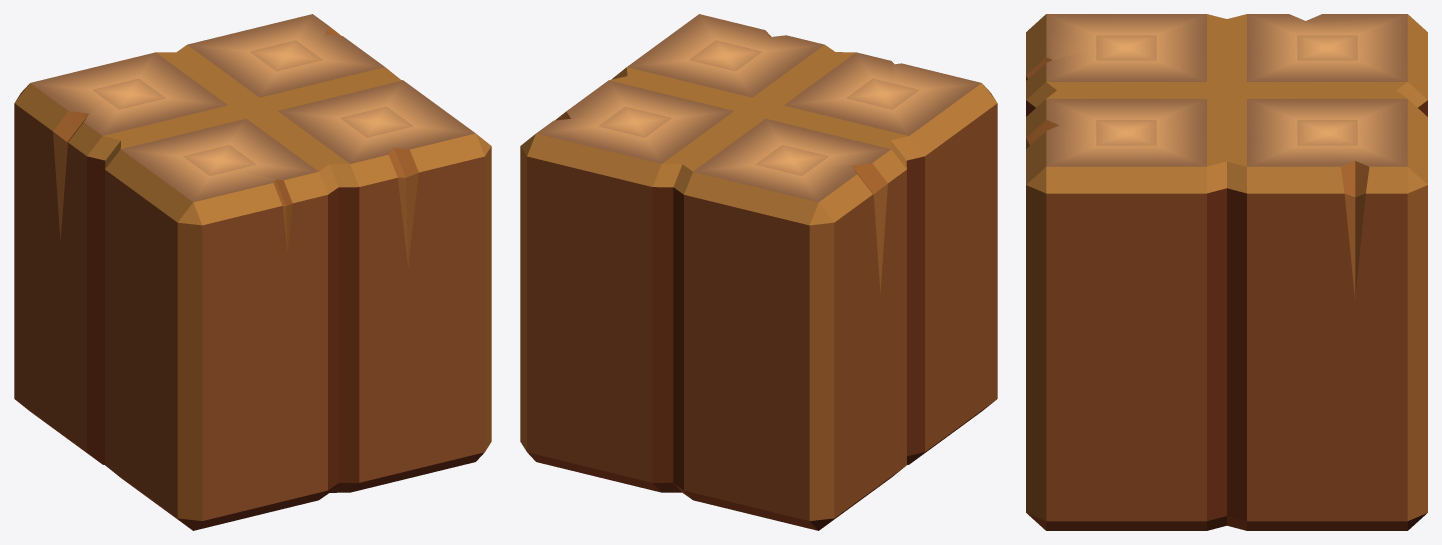
Rendered from m_kub_wood_cubeBig.FBX.
The picture shows the model from 3 angles, left to right: view 1: azimuth 30°, elevation 25°; view 2: azimuth 150°, elevation 25°; view 3: azimuth 270°, elevation 25°; orthographic projection. The views are drawn at different scales.
Visible parts, largest first — view 1: m_kub_wood_cubeBig; view 2: m_kub_wood_cubeBig; view 3: m_kub_wood_cubeBig.
Boxes of the visible parts, left/top/right/bottom form: m_kub_wood_cubeBig: left=14, top=14, right=491, bottom=530; m_kub_wood_cubeBig: left=520, top=14, right=997, bottom=530; m_kub_wood_cubeBig: left=1026, top=14, right=1427, bottom=530.
Bounding box in the file's own units: 2 × 2 × 2.
